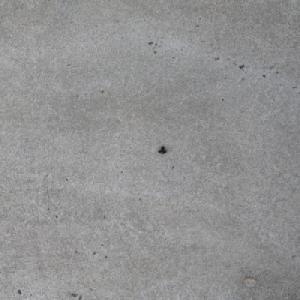BoltWasher: (157, 146, 167, 154)
